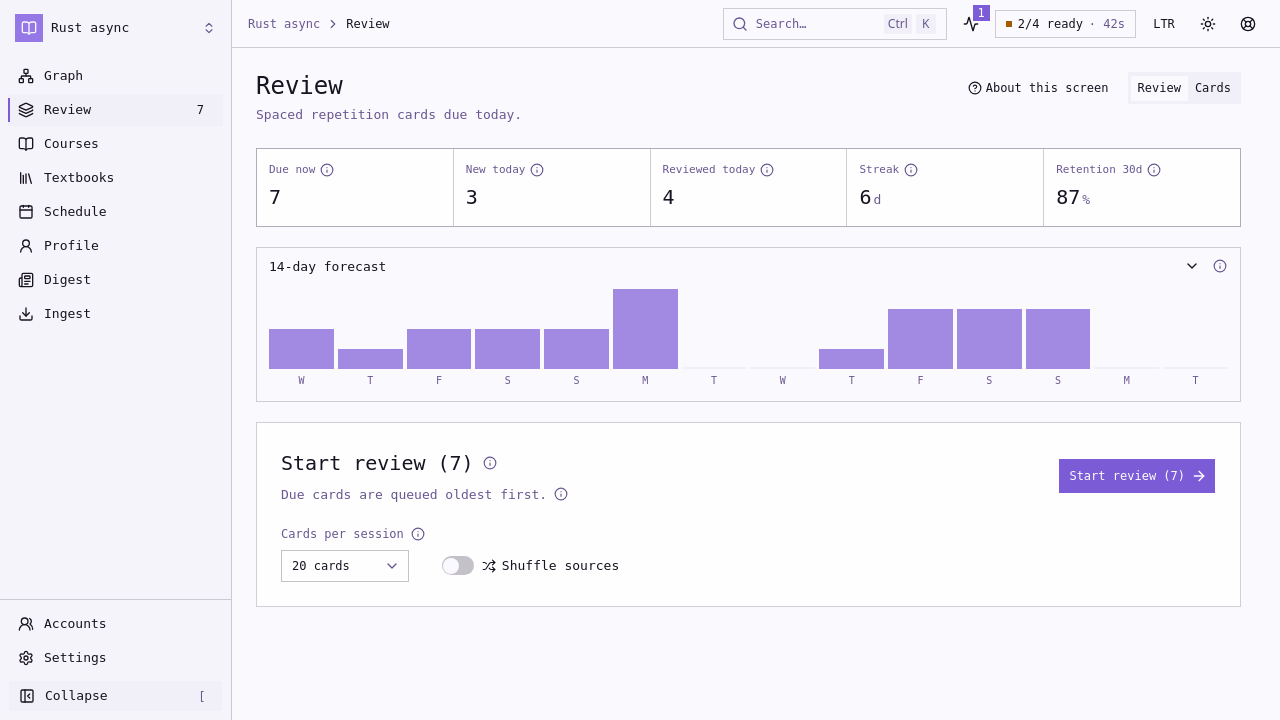
review info › a stats tip explains the streak
This screenshot has width=1280, height=720.
Click the button named "About Streak".
click(911, 170)  # box [903,162,919,178]
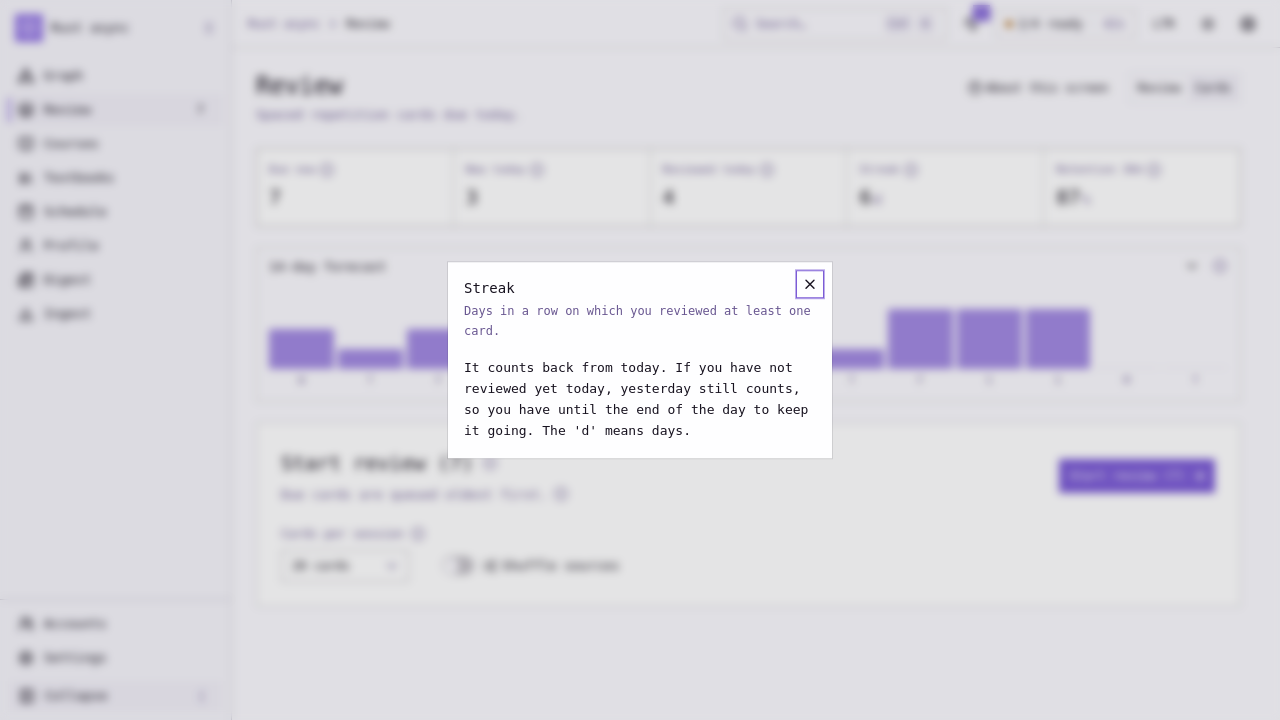
Check: the dialog with test id "info-dialog" shows "Days in a row", box [464,304,811,338]
